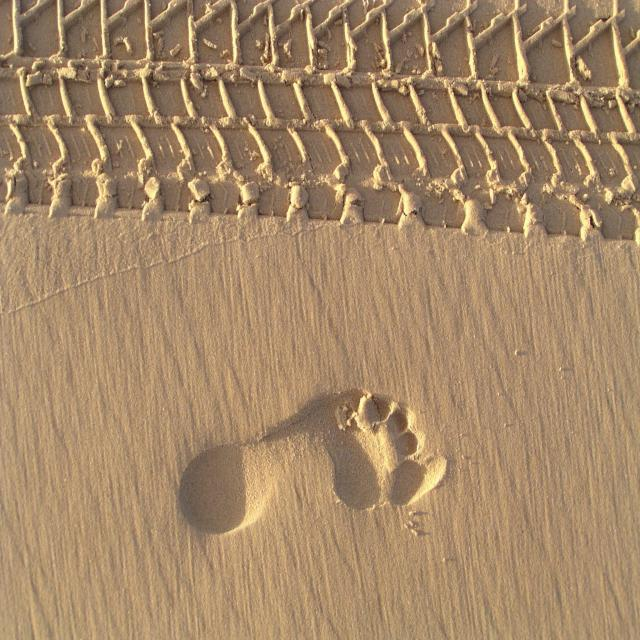human_footprint: (160, 343, 510, 581)
